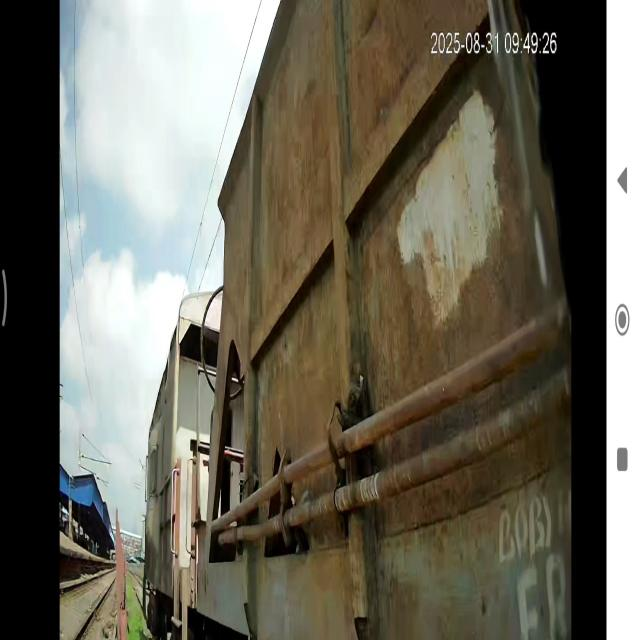brakevan: (130, 9, 244, 640)
